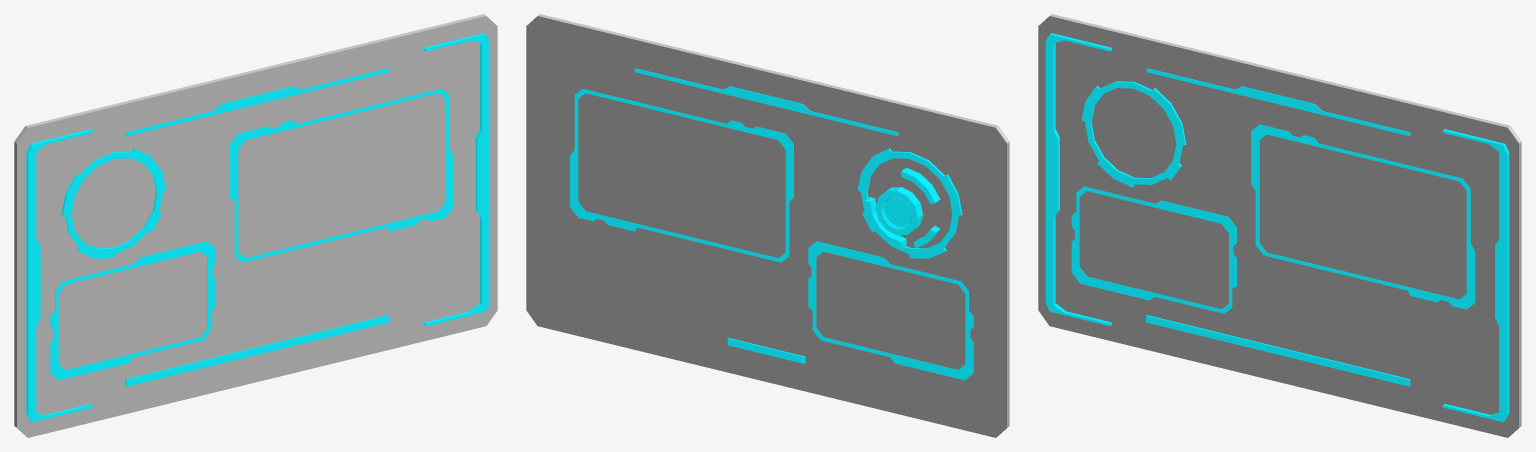
File: SM_Hud_ScreenPreset_03.glb
3 renders of one model, left to right at view 1: azimuth 30°, elevation 25°; view 2: azimuth 150°, elevation 25°; view 3: azimuth 330°, elevation 25°, orthographic.
Parts seen in each view (by area): view 1: SM_Hud_ScreenPreset_03; view 2: SM_Hud_ScreenPreset_03; view 3: SM_Hud_ScreenPreset_03.
Boxes of the visible parts, box(x1,y1,x2,y2) form: SM_Hud_ScreenPreset_03: box(14, 14, 497, 437); SM_Hud_ScreenPreset_03: box(526, 14, 1009, 437); SM_Hud_ScreenPreset_03: box(1038, 14, 1521, 437).
Size of the model in its own units: 1.17 by 0.7183 by 0.0783.
